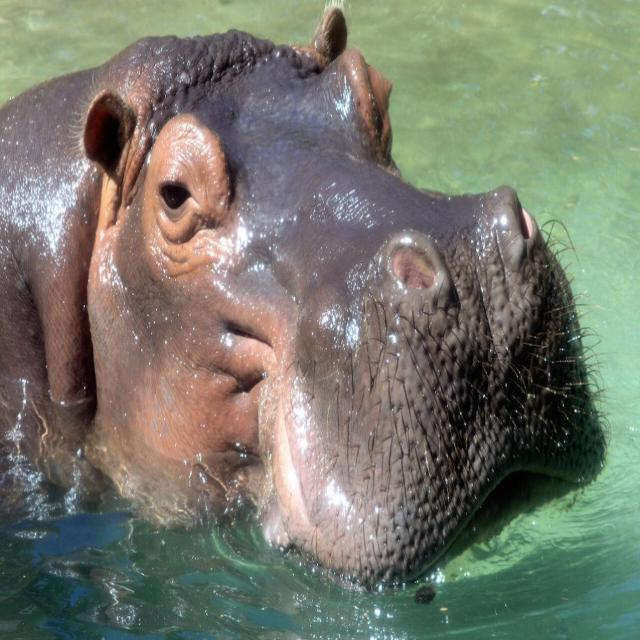Hippopotamus: (0, 13, 609, 570)
